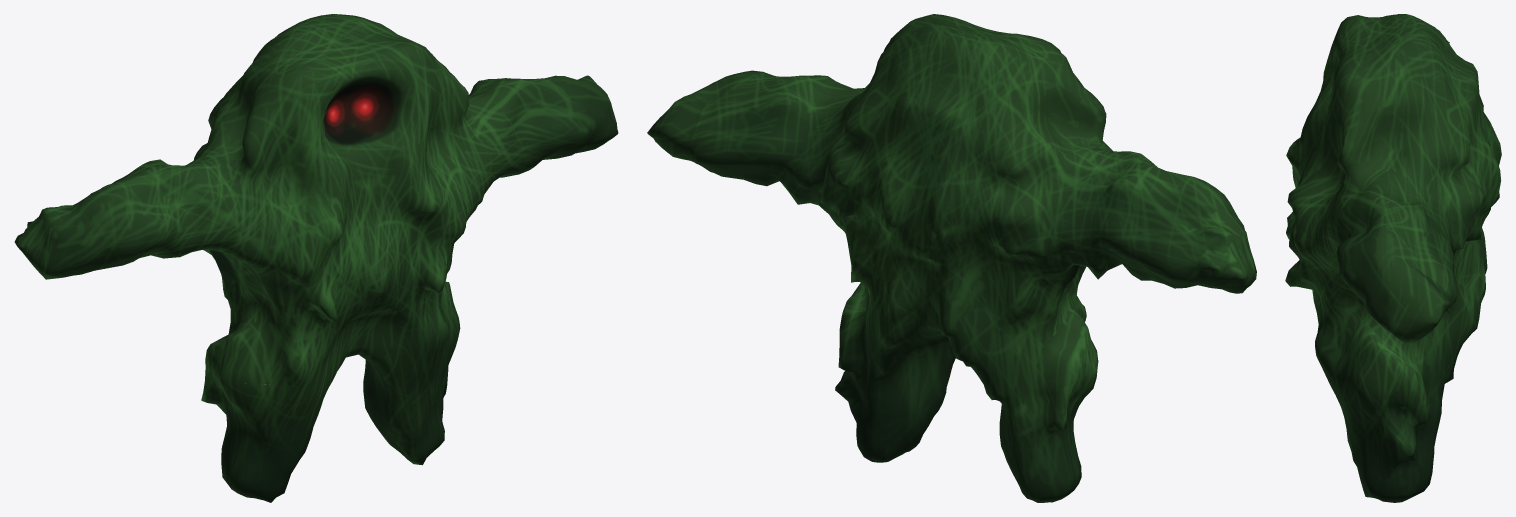
File: hulk.glb
3 renders of one model, left to right at view 1: azimuth 30°, elevation 25°; view 2: azimuth 150°, elevation 25°; view 3: azimuth 270°, elevation 25°, orthographic. The views are drawn at different scales.
Parts seen in each view (by area): view 1: Sphere; view 2: Sphere; view 3: Sphere.
Boxes of the visible parts, x1=… form: Sphere: x1=14, y1=14, x2=618, y2=502; Sphere: x1=647, y1=14, x2=1256, y2=502; Sphere: x1=1285, y1=14, x2=1501, y2=502.
Bounding box in the file's own units: 5.39 × 3.91 × 1.77.
1 material, 1 textured.
